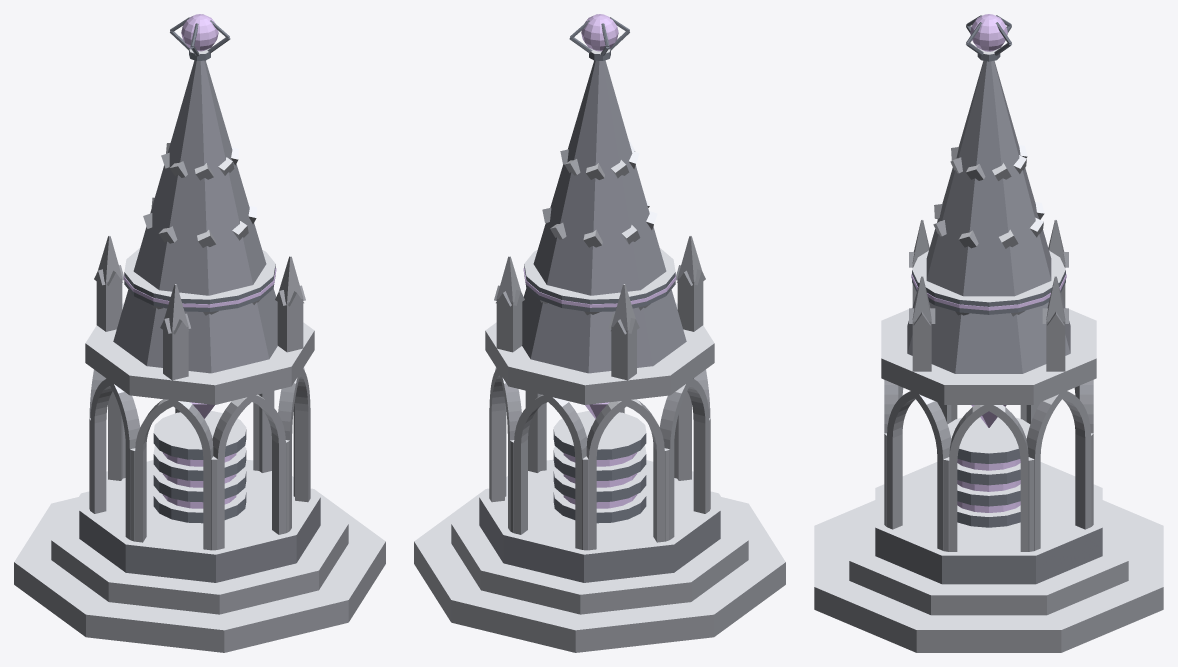
File: PR_Farol_Suspensao.fbx
The picture shows the model from 3 angles, left to right: view 1: azimuth 30°, elevation 25°; view 2: azimuth 150°, elevation 25°; view 3: azimuth 270°, elevation 25°; orthographic projection.
Visible parts, largest first — view 1: PR_Farol_Suspensao; view 2: PR_Farol_Suspensao; view 3: PR_Farol_Suspensao.
Part boxes in pixels (box(x1,y1,x2,y2)): PR_Farol_Suspensao: box(14, 14, 385, 652); PR_Farol_Suspensao: box(414, 14, 785, 652); PR_Farol_Suspensao: box(814, 14, 1163, 652).
Size of the model in its own units: 5.54 by 9.87 by 5.54.
